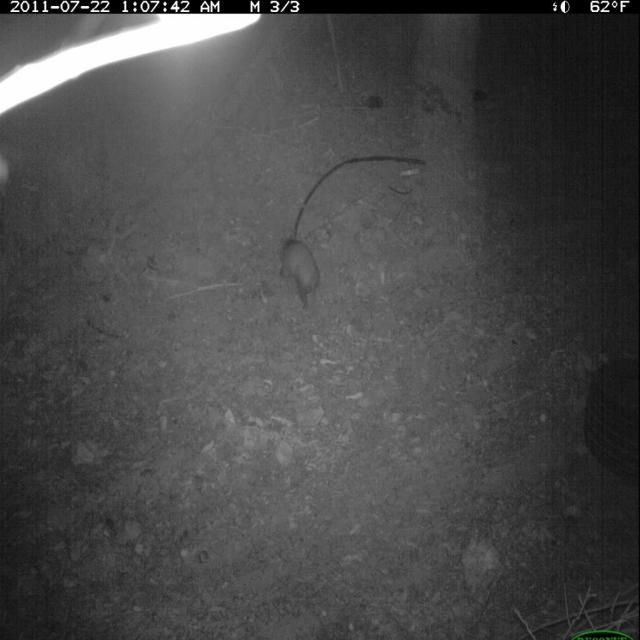opossum: (276, 231, 326, 319)
